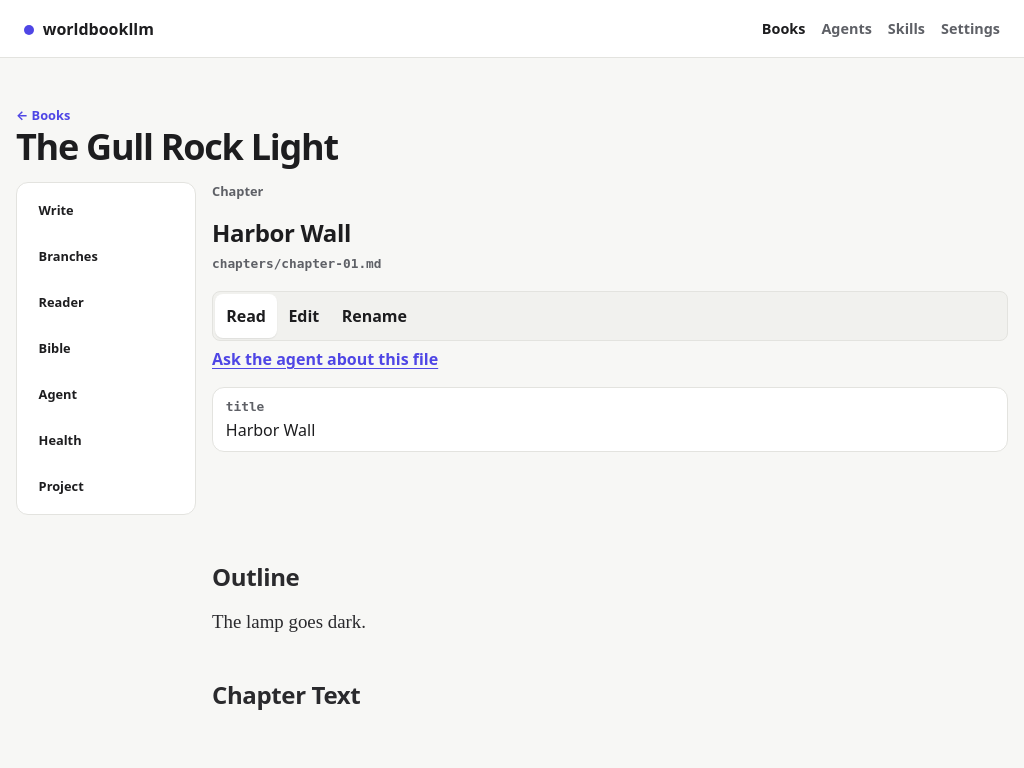
Scenario: the ink editor › offers Play from this chapter when reading it, as saved, not while editing
Step 1. Click the button "Edit" → (304, 316), box [277,294,330,338]
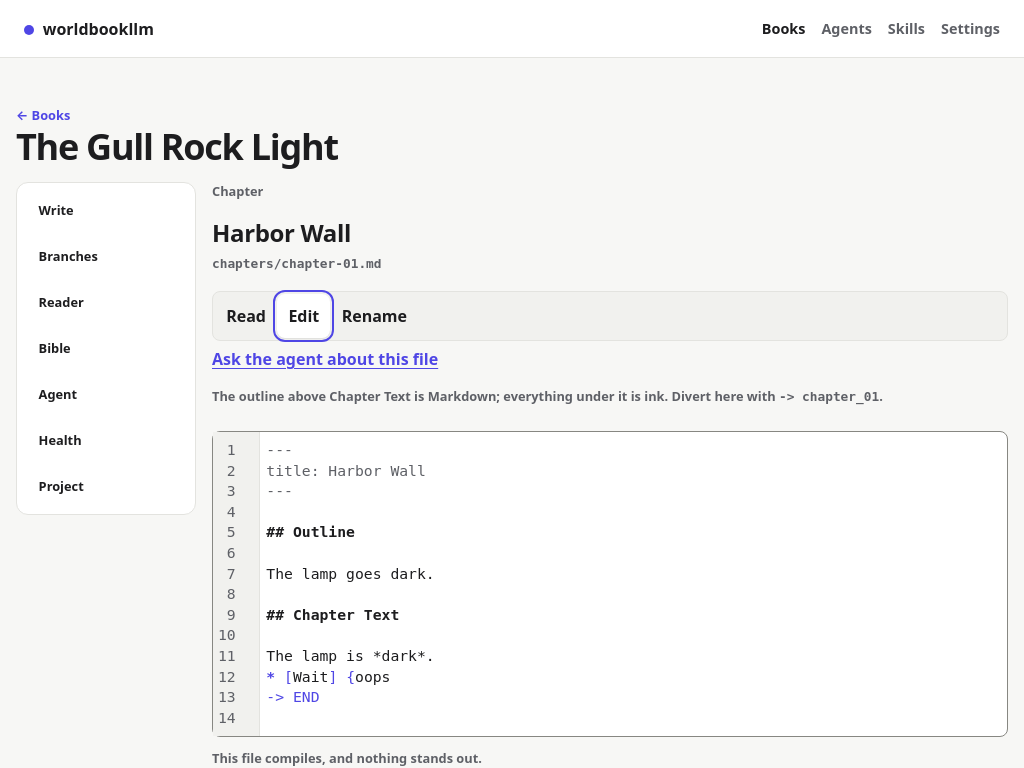
expect the text "This file compiles, and nothing stands out." is shown: met, box [212,749,482,767]
